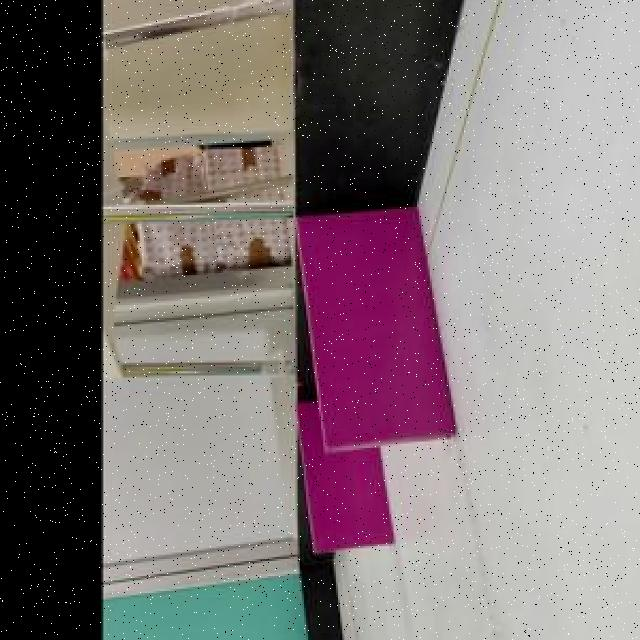xparking: (297, 205, 464, 449), (303, 449, 393, 551)
